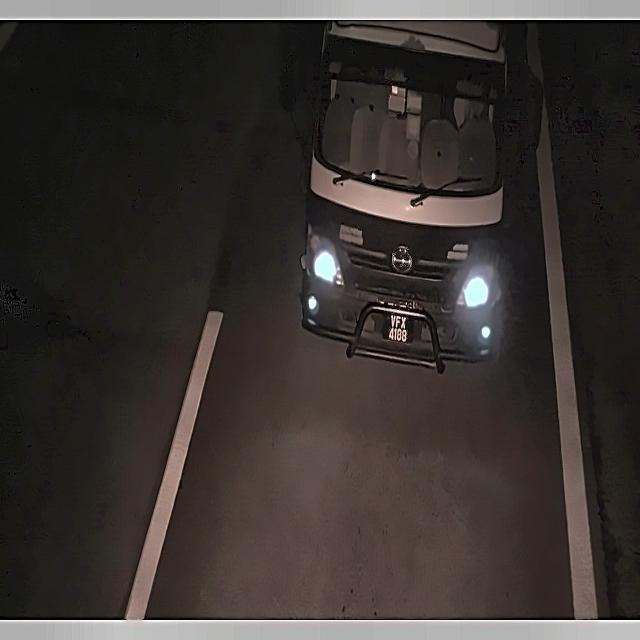car: (384, 302, 413, 349)
